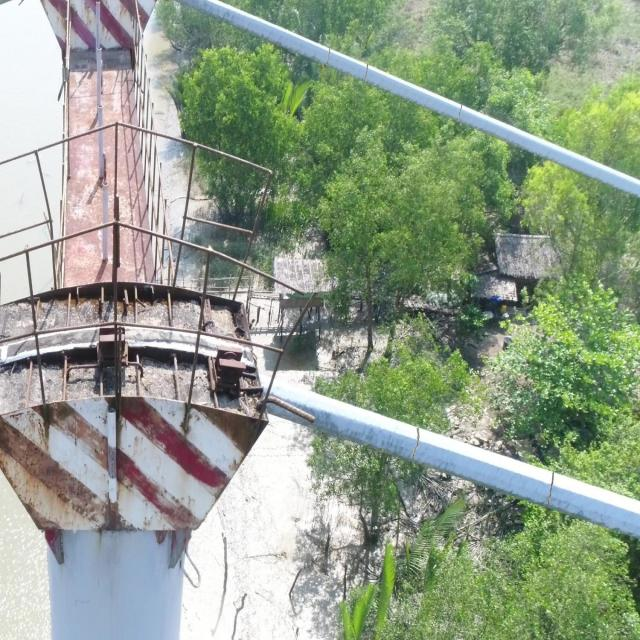crack: (547, 472, 555, 507), (412, 427, 420, 461), (326, 48, 331, 65), (364, 64, 368, 82), (458, 104, 462, 121)
